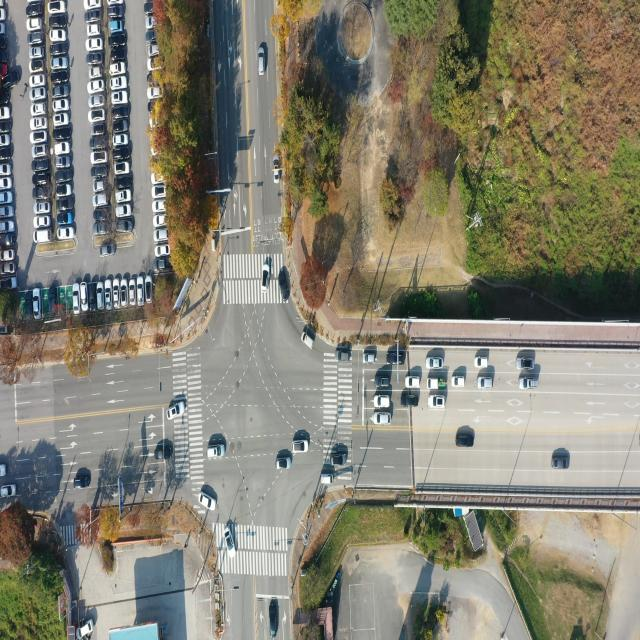car: (3, 70, 20, 91), (223, 527, 235, 556), (278, 270, 288, 302), (268, 601, 276, 638), (48, 286, 58, 315), (168, 405, 186, 420), (261, 263, 271, 290), (33, 229, 52, 243), (456, 434, 474, 448), (48, 1, 66, 15), (302, 333, 316, 351), (517, 357, 536, 370), (372, 414, 392, 426), (157, 448, 174, 462), (387, 353, 405, 366), (519, 379, 538, 391), (329, 455, 348, 467), (110, 76, 126, 90), (57, 212, 73, 226), (28, 2, 44, 16), (58, 184, 74, 198), (208, 446, 225, 459), (87, 110, 107, 121), (30, 117, 48, 129), (52, 126, 70, 138), (201, 494, 215, 509), (110, 48, 125, 62), (428, 395, 444, 408), (54, 113, 70, 126), (112, 92, 128, 105), (93, 151, 109, 164), (292, 442, 308, 455), (112, 119, 128, 132), (58, 229, 75, 241), (426, 358, 443, 370), (553, 458, 570, 470), (51, 30, 68, 42), (402, 394, 419, 406), (56, 142, 70, 156), (138, 278, 145, 306), (105, 280, 112, 308), (55, 86, 69, 100), (90, 282, 97, 310), (114, 163, 129, 176), (74, 478, 89, 491), (35, 216, 51, 228), (478, 378, 494, 390), (34, 202, 50, 214), (56, 158, 72, 170), (112, 135, 128, 147), (276, 458, 292, 470), (115, 190, 131, 202), (90, 80, 106, 92), (274, 154, 280, 186), (1, 278, 17, 290), (110, 64, 126, 76), (93, 138, 109, 150), (145, 277, 152, 304), (51, 15, 68, 26), (156, 230, 170, 243), (28, 19, 42, 32), (0, 220, 15, 232), (32, 132, 47, 144), (55, 100, 70, 112), (32, 104, 47, 116), (1, 486, 16, 498), (258, 46, 264, 76), (34, 290, 40, 320), (58, 200, 73, 212), (0, 147, 12, 162), (116, 220, 132, 231), (53, 59, 69, 70), (334, 350, 350, 361), (73, 284, 79, 313), (81, 284, 87, 313), (52, 44, 69, 54), (115, 178, 132, 188), (147, 88, 160, 101), (376, 395, 390, 407), (93, 180, 107, 192), (95, 196, 109, 208), (157, 245, 171, 257), (116, 204, 130, 216), (91, 96, 105, 108), (90, 38, 104, 50), (95, 223, 109, 235), (31, 90, 45, 102), (0, 207, 14, 219), (154, 186, 168, 198), (34, 162, 48, 174), (113, 279, 119, 307), (120, 279, 126, 307), (0, 235, 14, 247), (475, 357, 490, 368), (31, 75, 46, 86), (98, 282, 104, 309), (102, 245, 115, 257), (109, 22, 122, 34), (156, 214, 168, 227), (0, 192, 13, 204), (35, 186, 48, 198), (91, 67, 104, 79), (407, 378, 421, 389), (0, 135, 11, 149), (94, 125, 108, 136), (1, 265, 15, 276), (29, 34, 43, 45), (88, 10, 102, 21), (0, 250, 14, 261), (378, 378, 392, 389), (109, 38, 124, 48), (90, 26, 102, 38), (0, 178, 12, 190), (155, 202, 167, 214), (0, 107, 11, 120), (451, 378, 465, 388), (30, 47, 44, 57), (90, 55, 104, 65), (33, 146, 47, 156), (108, 8, 122, 18), (87, 0, 102, 9), (0, 166, 12, 177), (34, 175, 46, 186), (157, 260, 168, 272), (31, 62, 44, 72), (321, 476, 334, 486), (0, 50, 9, 64), (0, 64, 8, 79), (145, 15, 154, 28), (363, 354, 374, 364), (0, 123, 10, 134), (148, 45, 158, 55), (108, 0, 124, 6), (2, 90, 10, 102), (0, 37, 7, 50), (0, 464, 7, 477), (0, 24, 6, 36)
small_truck: (426, 378, 446, 391)
